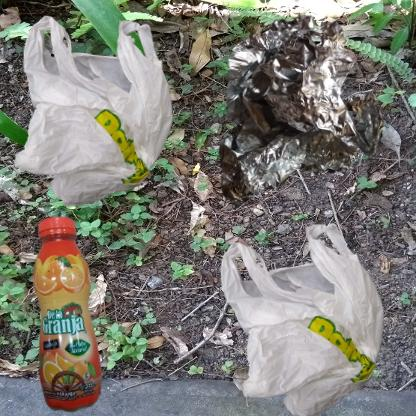aluminio: (213, 10, 388, 209)
bolsa: (213, 213, 410, 416), (10, 10, 184, 219)
botella: (10, 213, 137, 416)
